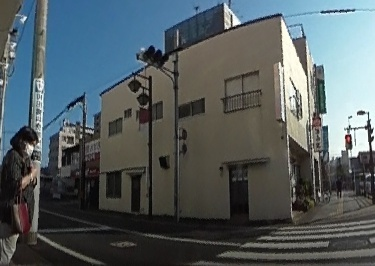person: (1, 124, 41, 266), (334, 176, 344, 196)
